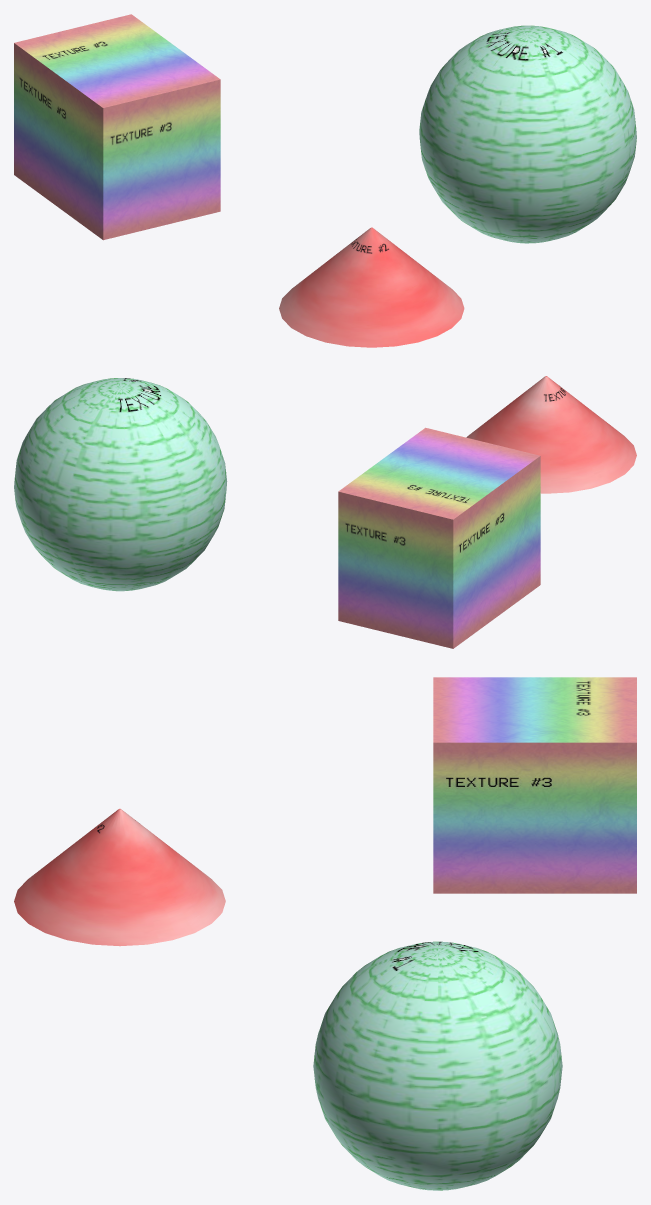
File: param_levels_part2.dae
The picture shows the model from 3 angles, top to bottom: view 1: azimuth 30°, elevation 25°; view 2: azimuth 150°, elevation 25°; view 3: azimuth 270°, elevation 25°; orthographic projection. The views are drawn at different scales.
Visible parts, largest first — view 1: Box01, Sphere01, Cone01; view 2: Box01, Sphere01, Cone01; view 3: Sphere01, Box01, Cone01.
Boxes of the visible parts, <box> form: Box01: <box>14,14,220,240</box>; Sphere01: <box>419,25,636,243</box>; Cone01: <box>279,227,464,347</box>; Box01: <box>338,427,540,648</box>; Sphere01: <box>14,378,227,591</box>; Cone01: <box>466,376,636,493</box>; Sphere01: <box>313,941,562,1190</box>; Box01: <box>433,677,636,893</box>; Cone01: <box>14,808,225,946</box>.
Size of the model in its own units: 88.06 by 79.76 by 37.27.
3 materials, 3 textured.
